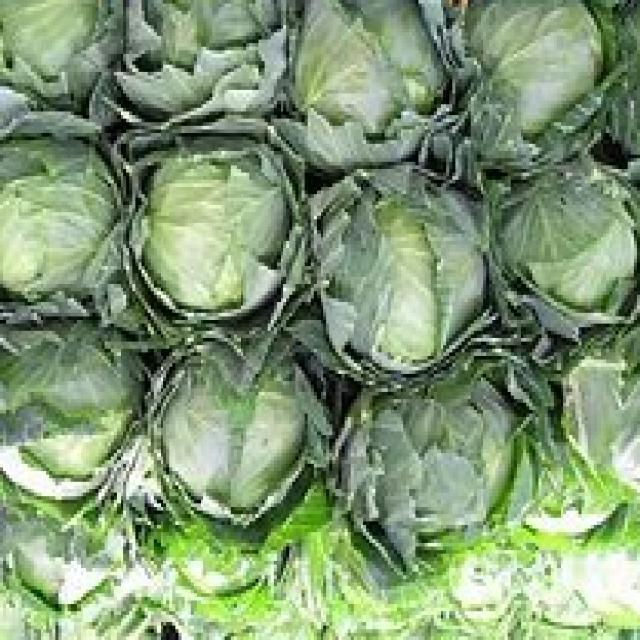cabbage: (328, 207, 474, 366), (141, 153, 287, 306), (297, 0, 439, 137), (461, 5, 607, 136), (162, 371, 298, 506), (0, 132, 116, 290), (4, 348, 138, 479), (510, 178, 638, 308)
